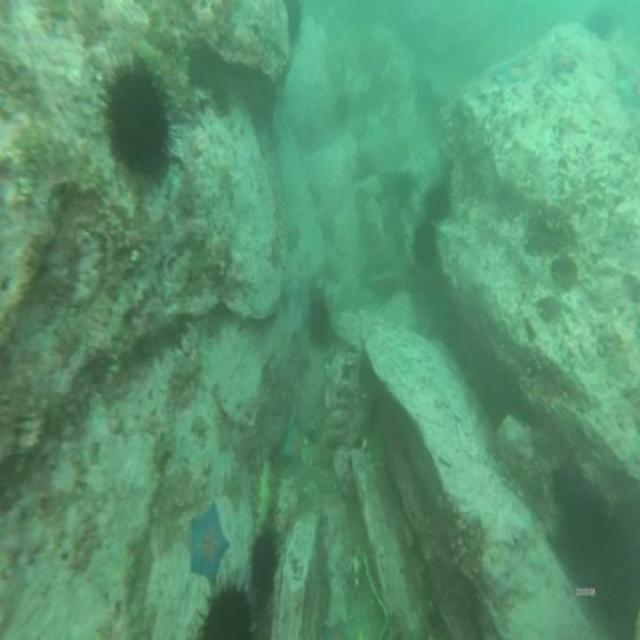echinus: (100, 73, 169, 180), (202, 588, 252, 640), (252, 534, 279, 593), (308, 291, 328, 344), (415, 226, 437, 270), (588, 11, 616, 38), (424, 188, 448, 218), (394, 172, 410, 196)
holothurian: (255, 463, 276, 539)
starfish: (190, 502, 230, 578), (280, 421, 301, 462), (552, 51, 578, 78), (501, 60, 527, 82)
